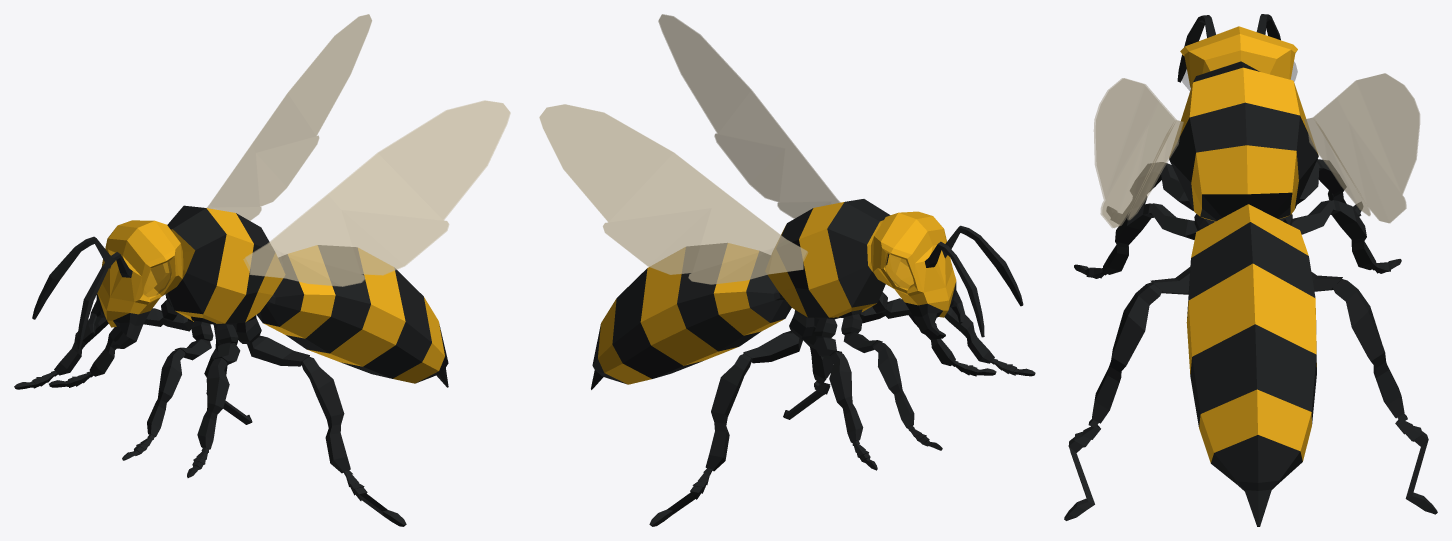
The model's file is bee.fbx.
3 renders of one model, left to right at view 1: azimuth 30°, elevation 25°; view 2: azimuth 150°, elevation 25°; view 3: azimuth 270°, elevation 25°, orthographic. The views are drawn at different scales.
Parts seen in each view (by area): view 1: beehive.006; view 2: beehive.006; view 3: beehive.006.
Part boxes in pixels (x1,y1,x2,y2): beehive.006: [14, 14, 510, 526]; beehive.006: [539, 14, 1035, 526]; beehive.006: [1064, 14, 1437, 526].
Size of the model in its own units: 626 by 577 by 398.
